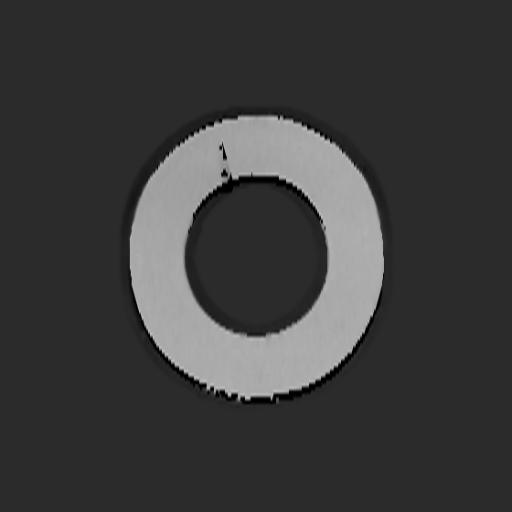defect: (219, 142, 232, 182)
